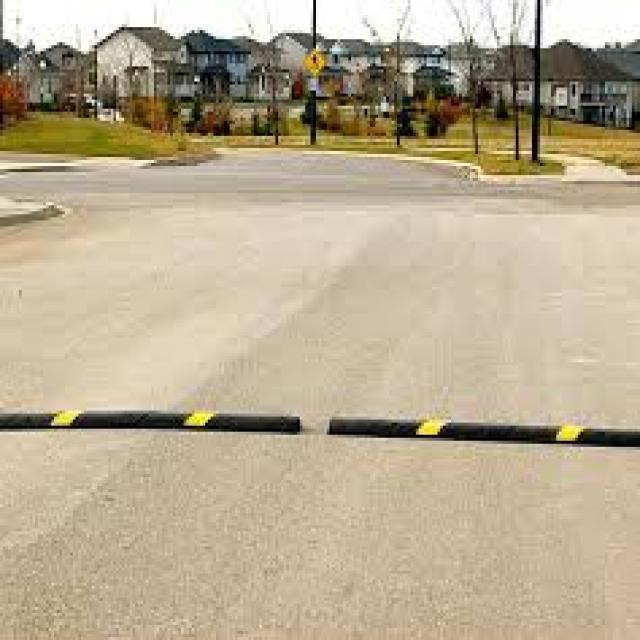Marked Bump: (330, 398, 635, 472), (21, 388, 316, 450)
